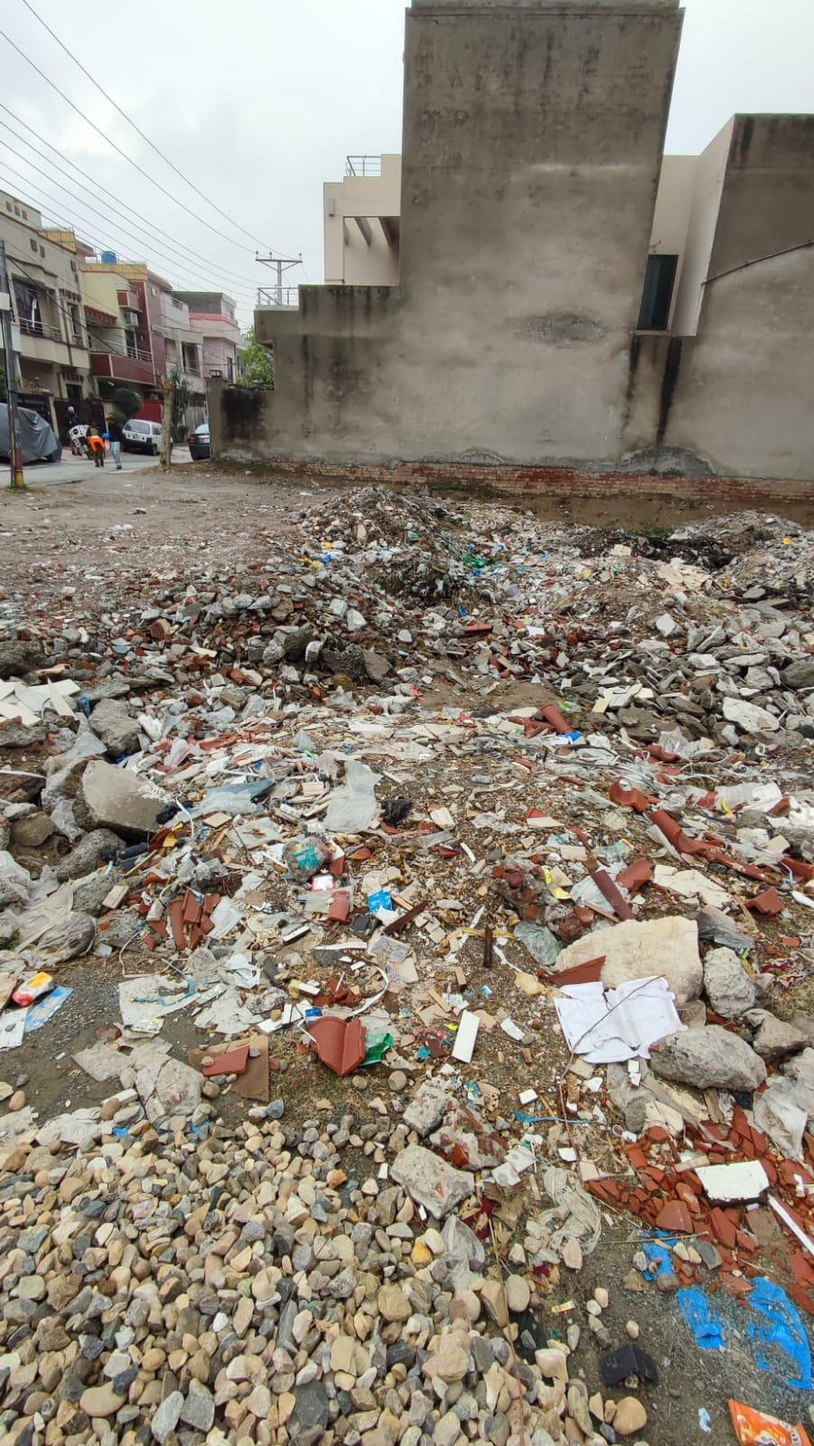garbage: (137, 516, 814, 1283)
